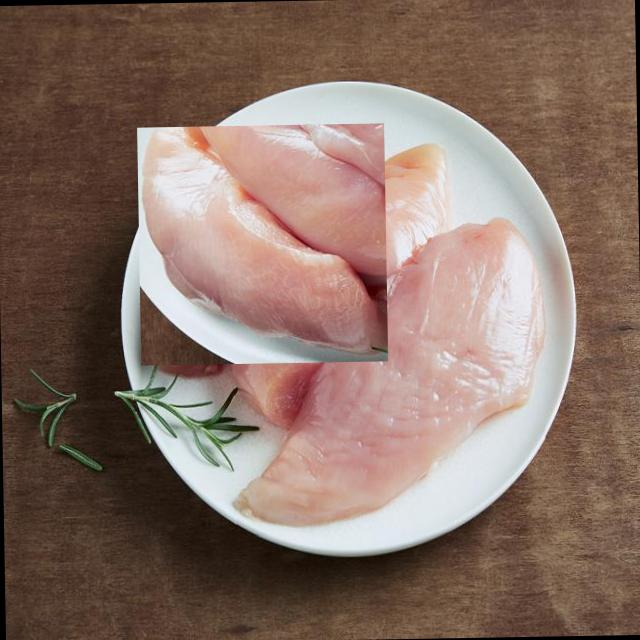chicken: (231, 218, 546, 536), (230, 144, 454, 424), (138, 120, 386, 368)
